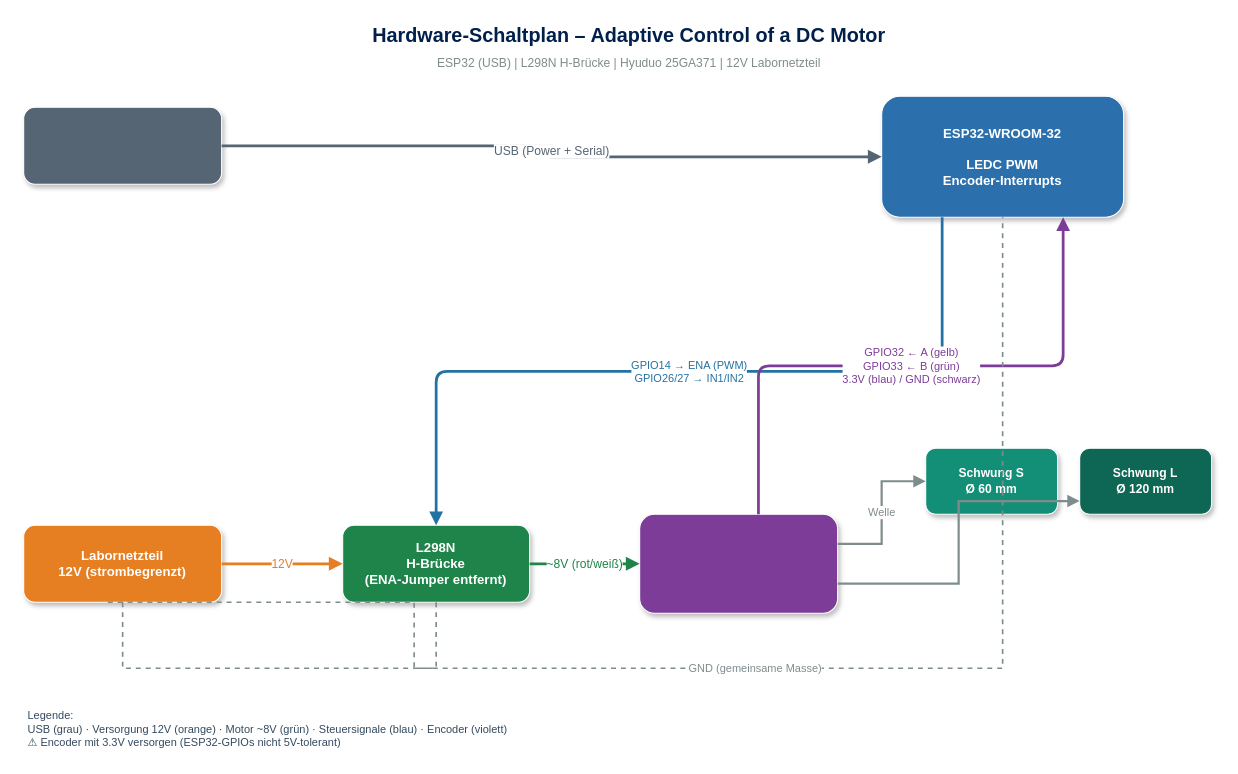
Some shapes in this 1238 by 774 pixel diagram are drawn without their labels. Here are the shapes that lost their labels. From the top down, the centre of each, then its label:
(x=123, y=147): PC / Laptop Simulink External Mode
(x=739, y=565): DC Motor Hyuduo 25GA371 + Encoder (44 CPR)
